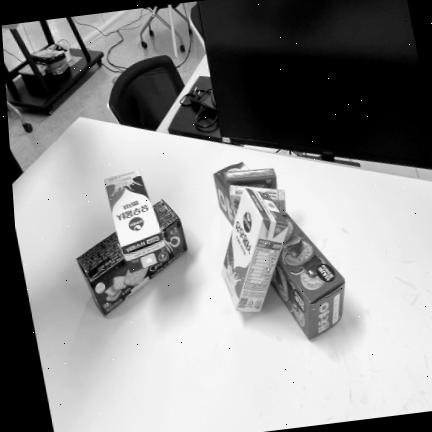cracker_ace: (77, 199, 188, 318)
cracker_vege: (269, 213, 344, 339), (213, 161, 248, 224)
gum_green: (223, 168, 276, 192)
gum_yellow: (229, 185, 286, 215)
milk_blue: (104, 169, 168, 272)
milk_green: (221, 188, 287, 312)
